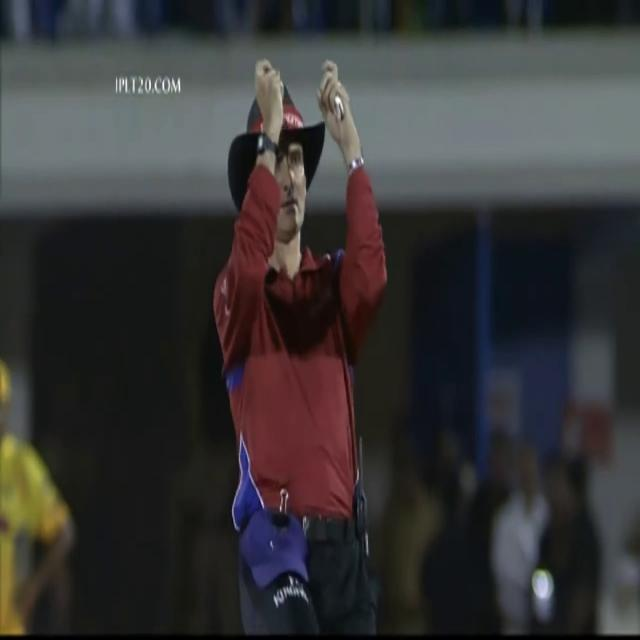Six: (207, 45, 390, 640)
